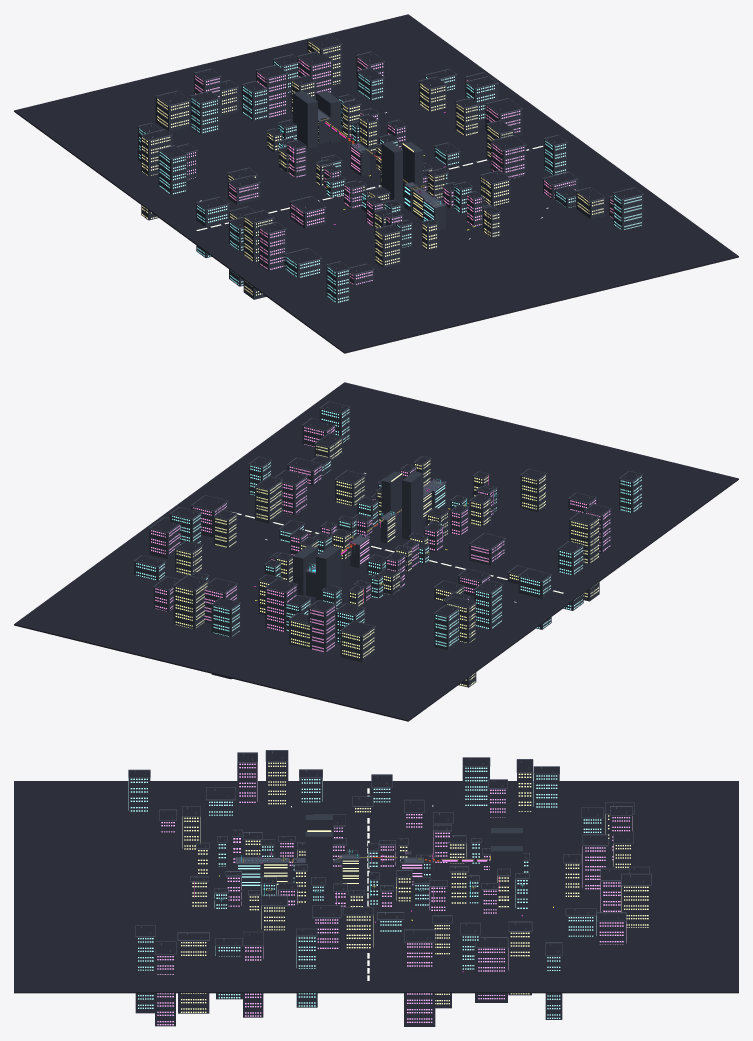
The model's file is city.glb.
3 views of the same model, one above another, from view 1: azimuth 30°, elevation 25°; view 2: azimuth 150°, elevation 25°; view 3: azimuth 270°, elevation 25° (orthographic). The views are drawn at different scales.
Parts seen in each view (by area): view 1: C_asphalt, C_concrete2, C_concrete3, C_win_cool, C_win_warm, C_win_pink; view 2: C_asphalt, C_concrete2, C_concrete3, C_win_warm, C_win_cool, C_win_pink; view 3: C_asphalt, C_concrete2, C_concrete3, C_win_pink, C_win_warm, C_win_cool, C_metal_d, C_concrete.
Boxes of the visible parts, x1,y1,x2,y2 form: C_asphalt: (14, 14, 738, 353); C_concrete2: (138, 40, 643, 303); C_concrete3: (138, 33, 643, 274); C_win_cool: (139, 61, 641, 302); C_win_warm: (142, 41, 603, 295); C_win_pink: (187, 58, 613, 284); C_asphalt: (14, 382, 738, 721); C_concrete2: (134, 407, 642, 687); C_concrete3: (134, 401, 642, 636); C_win_warm: (175, 439, 598, 686); C_win_cool: (136, 409, 641, 646); C_win_pink: (151, 426, 610, 651); C_asphalt: (14, 751, 738, 993); C_concrete2: (128, 751, 651, 1026); C_concrete3: (128, 750, 651, 956); C_win_pink: (157, 763, 632, 1025); C_win_warm: (181, 762, 648, 1012); C_win_cool: (128, 767, 601, 1018); C_metal_d: (144, 757, 643, 952); C_concrete: (236, 855, 490, 862).
Bounding box in the file's own units: 620 × 184 × 900.
